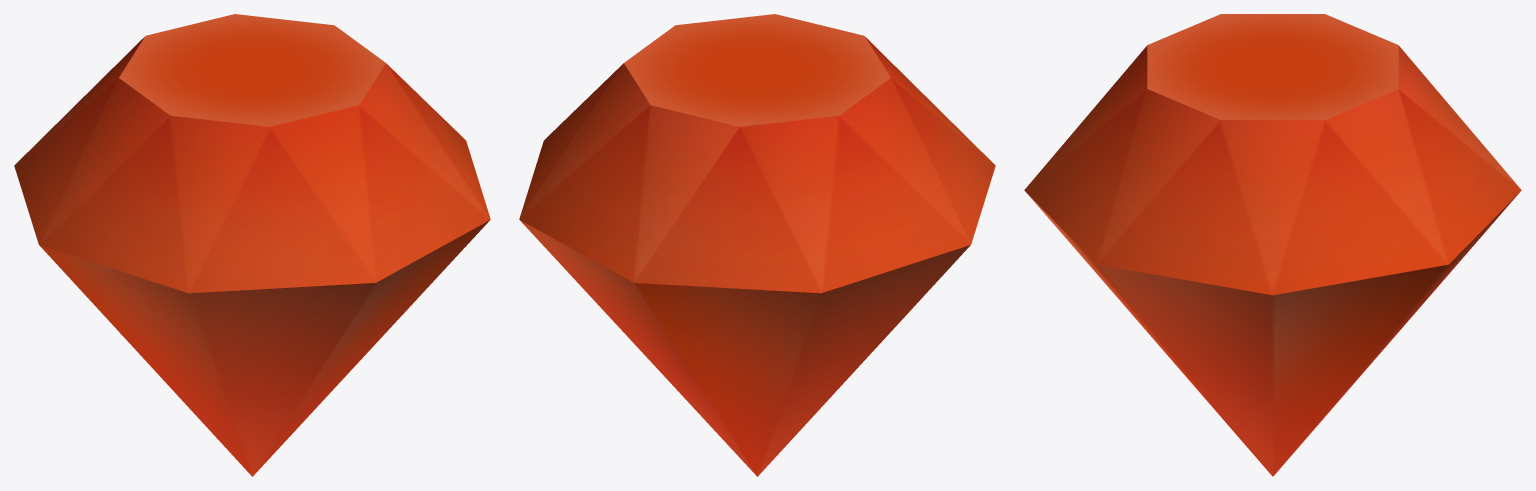
Rendered from jewel.FBX.
3 views of the same model, side by side, from view 1: azimuth 30°, elevation 25°; view 2: azimuth 150°, elevation 25°; view 3: azimuth 270°, elevation 25° (orthographic).
Parts seen in each view (by area): view 1: jewel; view 2: jewel; view 3: jewel.
Boxes of the visible parts, left/top/right/bottom form: jewel: left=14, top=14, right=490, bottom=476; jewel: left=519, top=14, right=995, bottom=476; jewel: left=1024, top=14, right=1521, bottom=476.
Bounding box in the file's own units: 35.57 × 32.33 × 35.57.
